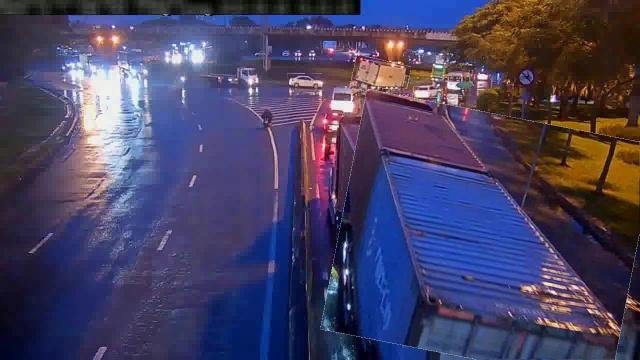Bike: (260, 108, 274, 128)
Car: (382, 89, 408, 109), (288, 74, 322, 88), (414, 86, 440, 98)
Truck: (330, 103, 640, 360), (350, 58, 410, 98)
